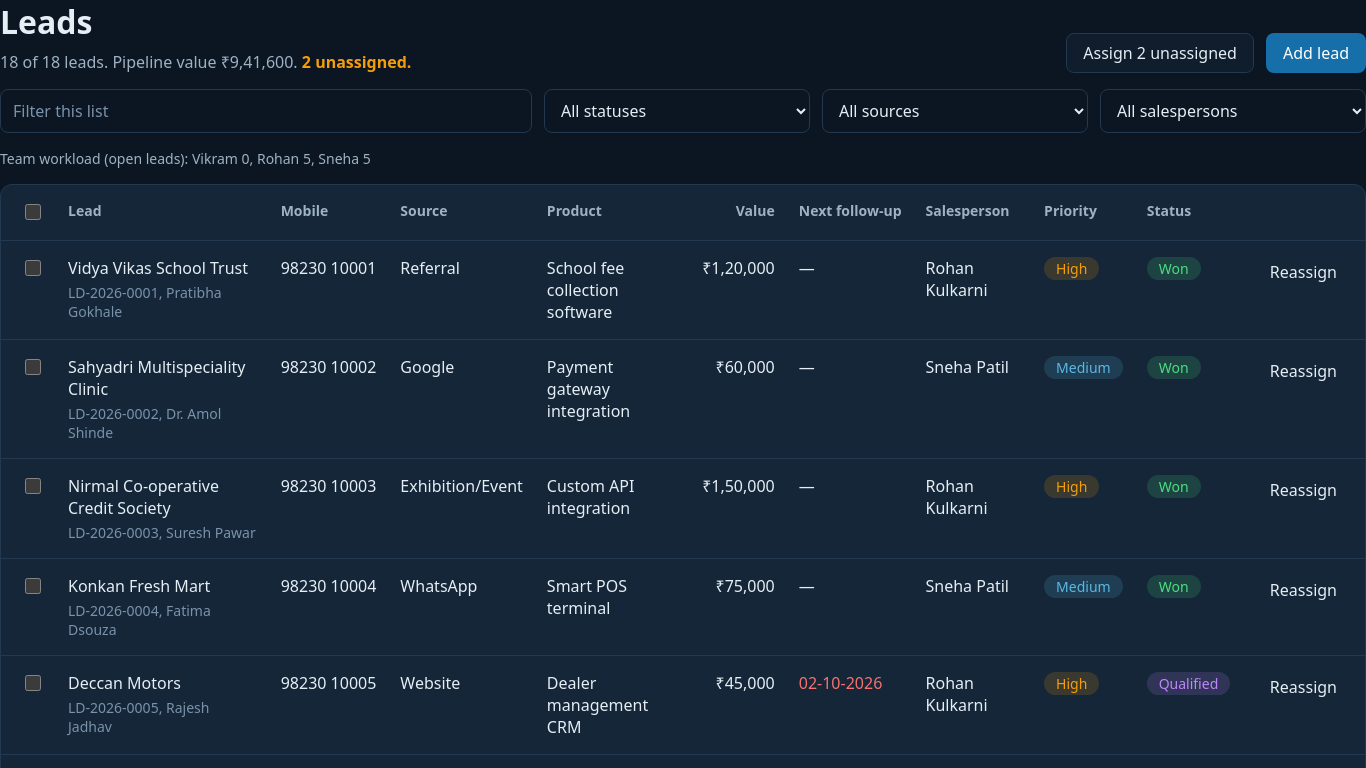
Test case: LeadsPanel › shows an empty state when nothing matches
This screenshot has width=1366, height=768.
Type "no such lead" into the search field named "Filter leads" at (266,111), box [0,89,532,133]
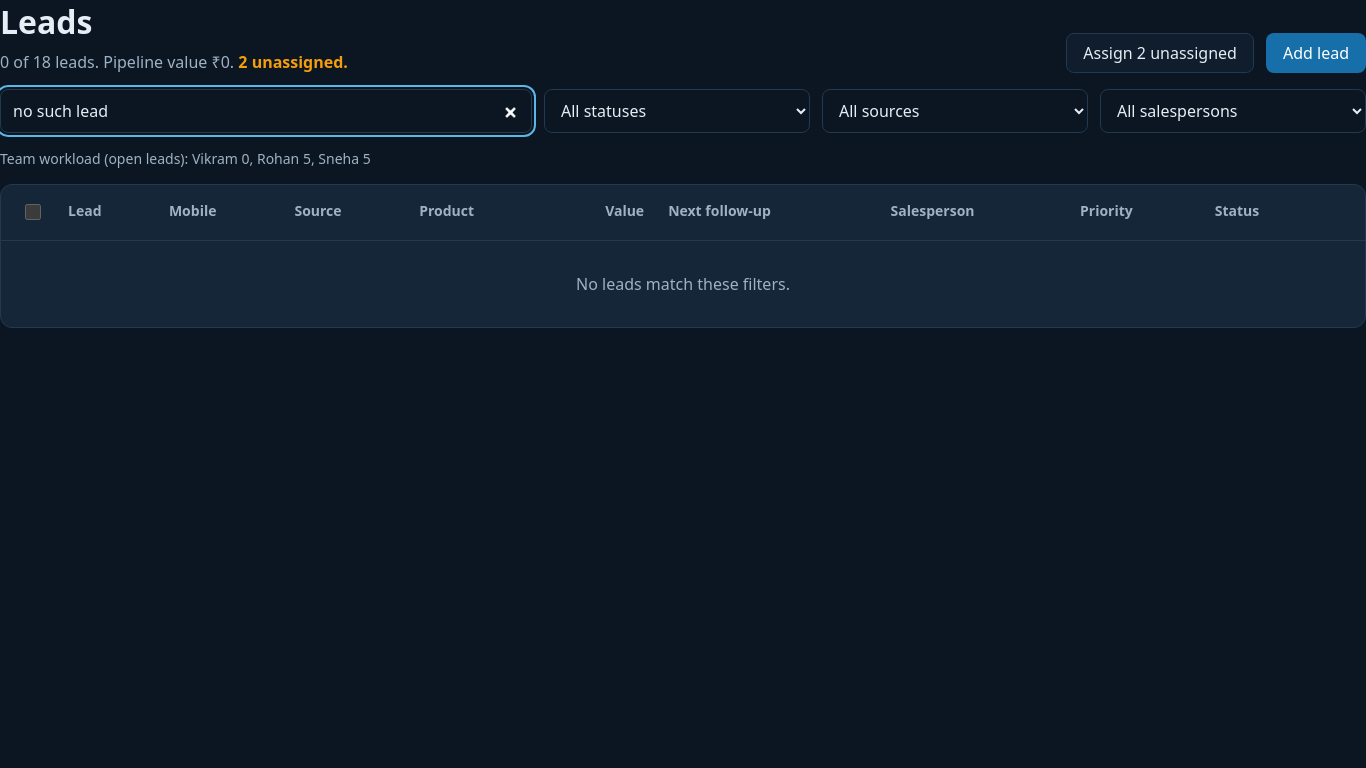
Check: the text "No leads match these filters." is shown, box [1,241,1365,327]
